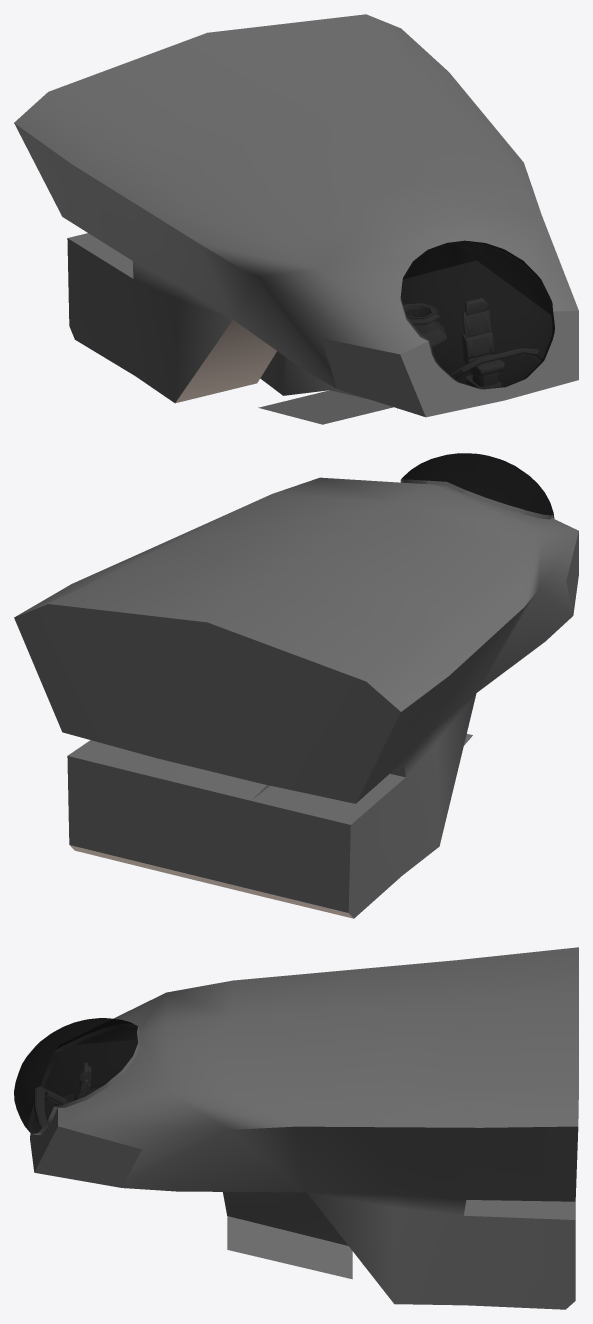
File: halenshipinterior3.fbx
The picture shows the model from 3 angles, top to bottom: view 1: azimuth 30°, elevation 25°; view 2: azimuth 150°, elevation 25°; view 3: azimuth 270°, elevation 25°; orthographic projection. The views are drawn at different scales.
Visible parts, largest first — view 1: interior, chair2, holoprojector, control_panel; view 2: interior; view 3: interior, control_panel.
Boxes of the visible parts, left/top/right/bottom form: interior: left=14, top=14, right=578, bottom=424; chair2: left=461, top=298, right=504, bottom=388; holoprojector: left=404, top=303, right=446, bottom=346; control_panel: left=449, top=348, right=543, bottom=379; interior: left=14, top=453, right=578, bottom=918; interior: left=14, top=947, right=578, bottom=1309; control_panel: left=34, top=1086, right=66, bottom=1128.
Size of the model in its own units: 0.7051 by 0.466 by 0.966.
